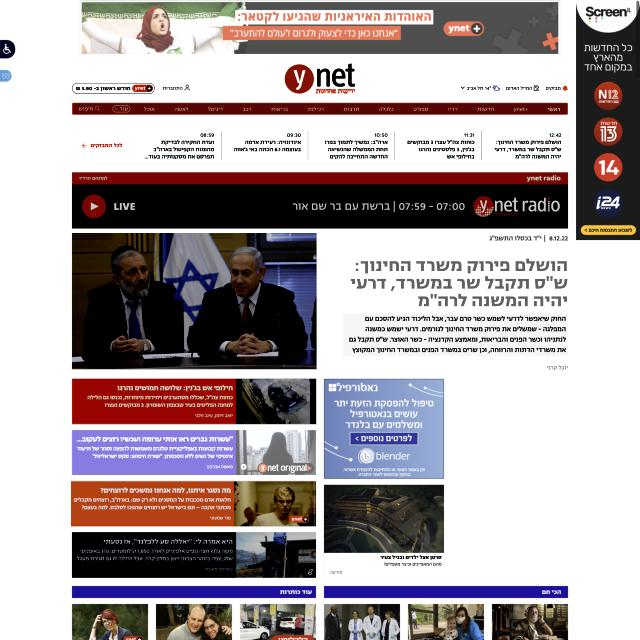ImageView: (72, 172, 568, 229), (80, 1, 560, 56), (575, 0, 640, 239), (324, 378, 444, 479), (324, 484, 446, 579)
Input field: (343, 314, 570, 356)
QR code: (71, 124, 568, 167)
Spinner: (72, 378, 317, 425), (72, 429, 317, 476), (72, 480, 316, 527), (72, 532, 316, 578)
bag: (69, 55, 569, 125)
copy: (72, 234, 317, 372)
date picker: (282, 62, 359, 97)
decoration: (73, 102, 567, 115), (461, 84, 568, 94)
image: (344, 257, 569, 312)
